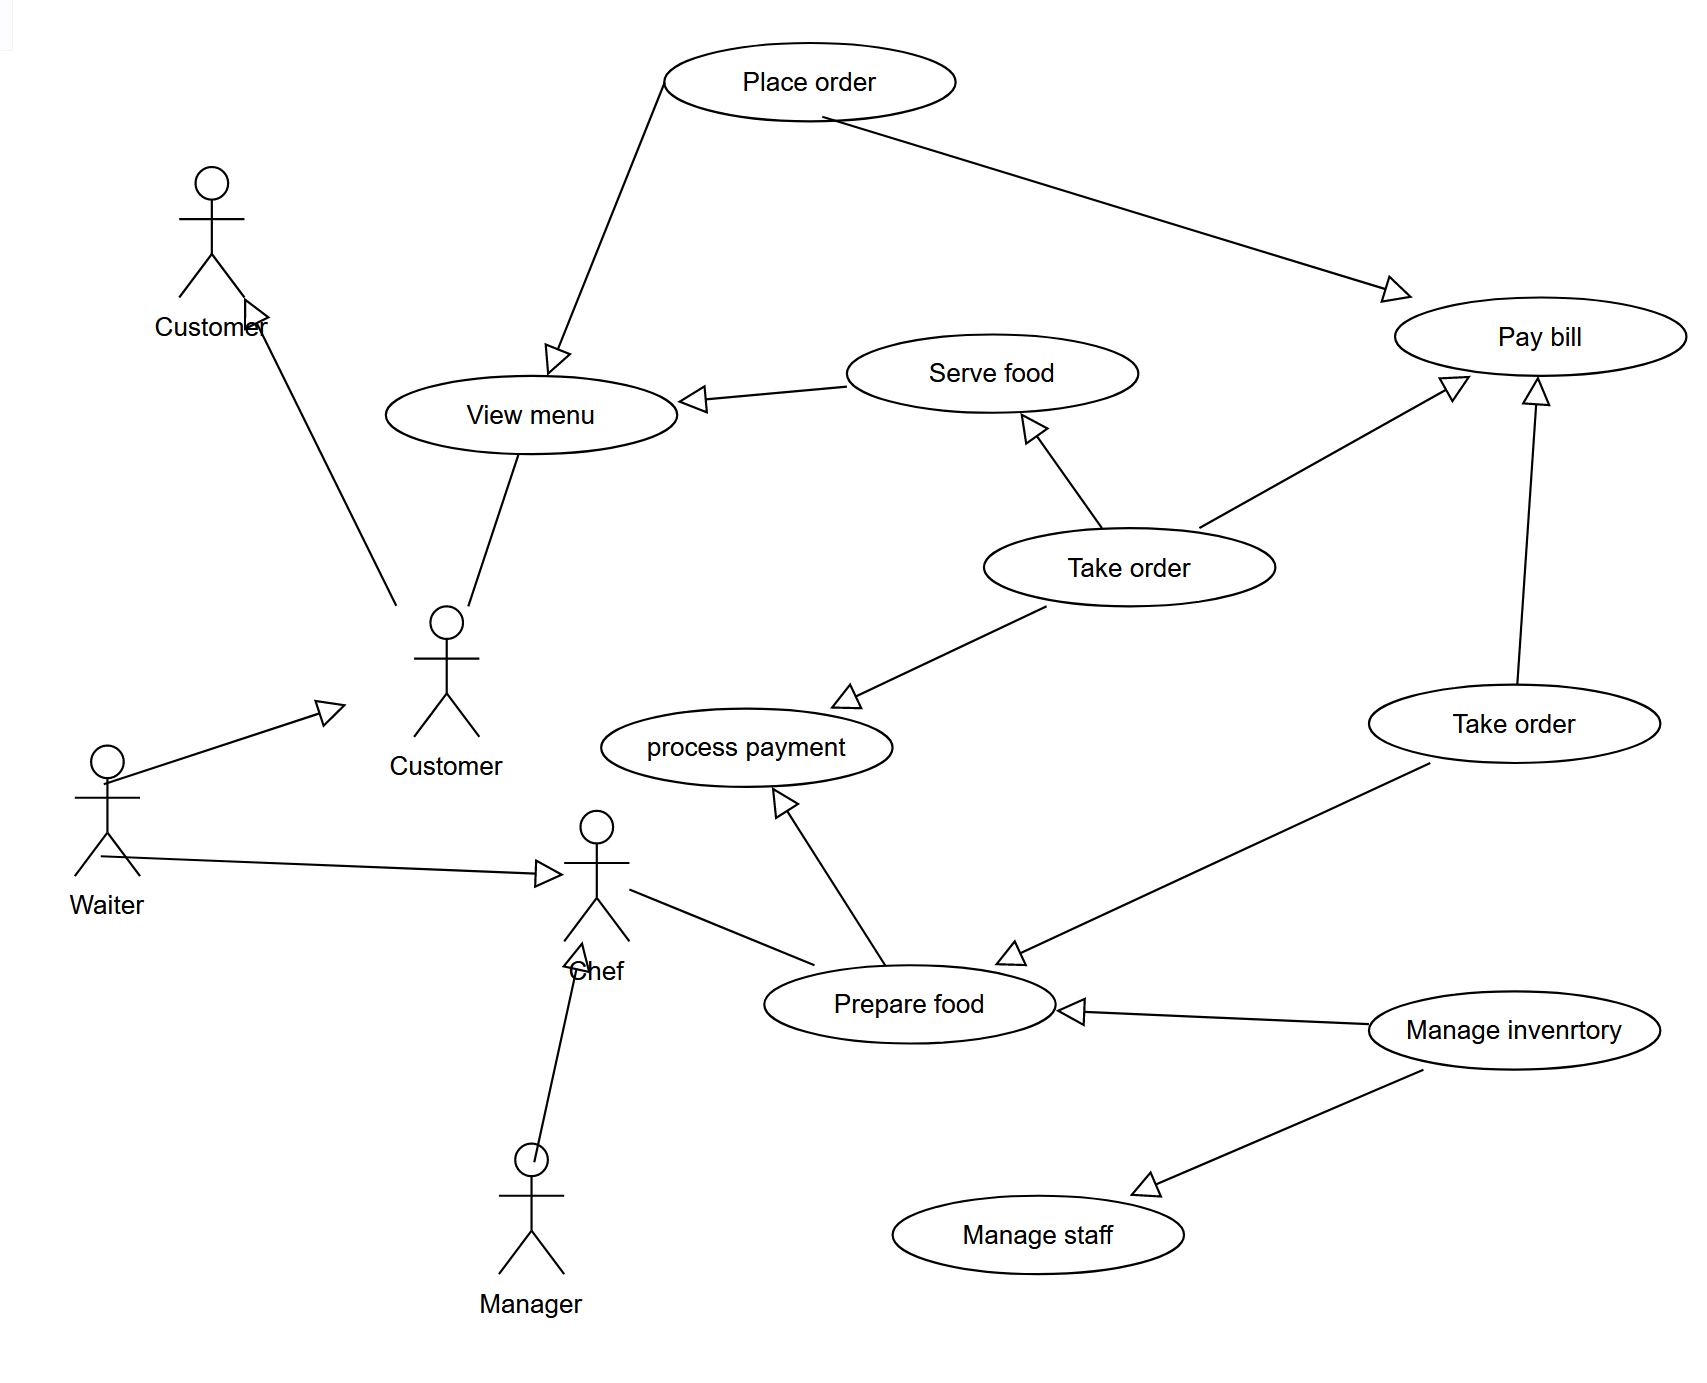actor: (408, 603, 481, 739), (492, 1143, 567, 1277), (564, 810, 635, 946), (176, 164, 244, 299), (73, 745, 141, 876)
association: (624, 890, 811, 965), (471, 454, 519, 608)
generalization: (820, 119, 1409, 302), (996, 759, 1433, 964), (243, 299, 398, 603), (1193, 374, 1471, 531), (1127, 1065, 1428, 1202), (549, 83, 666, 374), (111, 697, 354, 786), (772, 787, 886, 964), (102, 852, 564, 888), (1057, 994, 1371, 1041), (1514, 375, 1550, 682), (536, 940, 587, 1156), (1016, 411, 1102, 526), (680, 377, 849, 416)
text: (1407, 1015, 1624, 1049), (835, 982, 988, 1023), (642, 738, 848, 765), (958, 1221, 1119, 1255), (742, 58, 877, 97), (471, 1281, 594, 1324), (1059, 550, 1205, 584), (456, 398, 600, 429), (1428, 711, 1581, 739), (382, 749, 505, 783), (918, 360, 1064, 387), (150, 308, 265, 339), (1495, 318, 1586, 357), (63, 888, 152, 924), (567, 955, 626, 985)
use_case: (379, 373, 681, 454), (1392, 295, 1689, 378), (760, 962, 1057, 1046), (1367, 682, 1665, 763), (662, 40, 958, 121), (1368, 991, 1662, 1073), (846, 333, 1144, 412), (604, 707, 894, 787), (988, 526, 1275, 607), (887, 1195, 1185, 1269)
